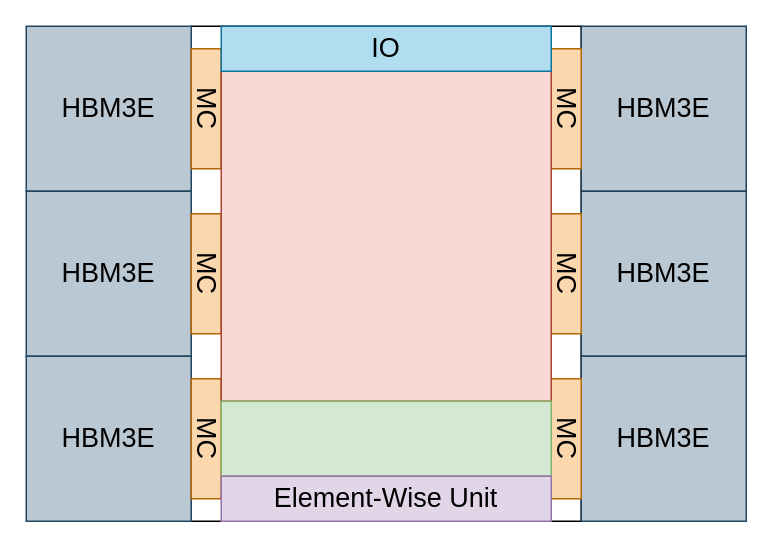
Some shapes in this 773 by 548 pixel diagram are drawn without their labels. Each missing label, with the centre of its shape:
"SRAM" belongs at [385,438].
"Systolic Array" belongs at [385,235].
